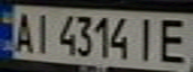1: (90, 14, 112, 58)
3: (72, 12, 93, 57)
4: (109, 14, 133, 61), (54, 11, 75, 56)
A: (9, 9, 36, 54)
E: (154, 15, 193, 65)
I: (133, 15, 163, 63), (30, 9, 54, 55)
